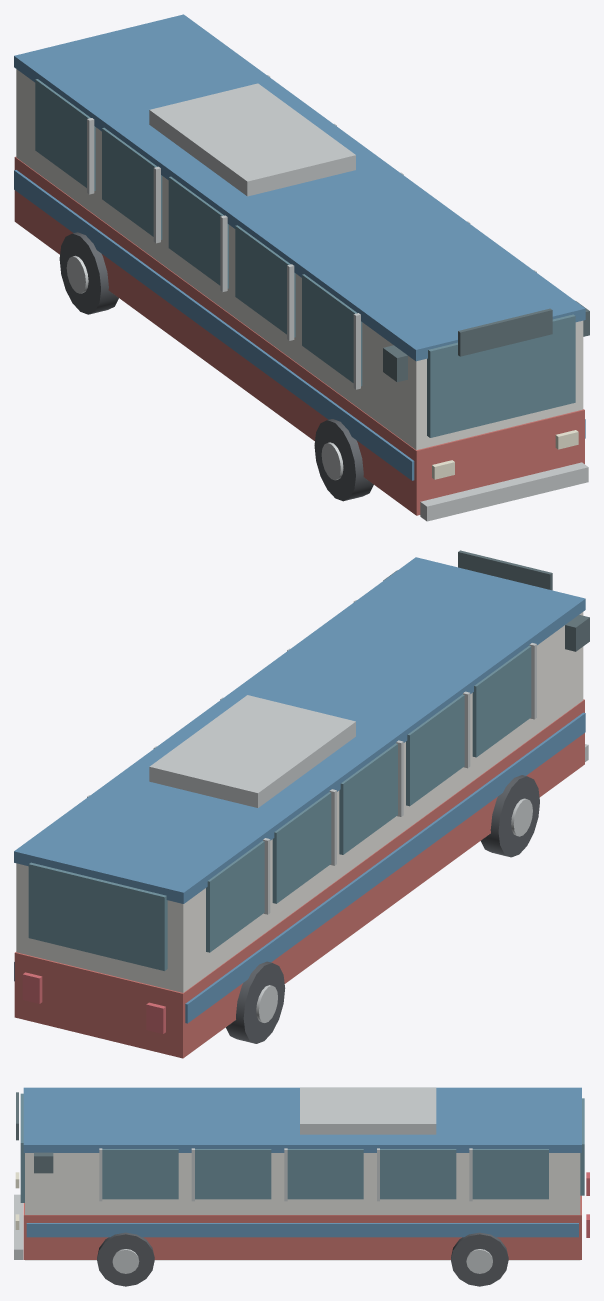
The model's file is dhaka-bus.gltf.
The picture shows the model from 3 angles, top to bottom: view 1: azimuth 30°, elevation 25°; view 2: azimuth 150°, elevation 25°; view 3: azimuth 270°, elevation 25°; orthographic projection. The views are drawn at different scales.
Parts seen in each view (by area): view 1: upper-blue-stripe, lower-red-panel, body, roof-air-unit, window-wide-front, side-paint-sweep--1, side-window--1--0.3999999999999997, side-window--1-1.3000000000000003, side-window--1--3.8, side-window--1-3, side-window--1--2.0999999999999996, front-bumper (+5 smaller); view 2: upper-blue-stripe, lower-red-panel, body, roof-air-unit, rear-window, side-paint-sweep--1, side-window--1--2.0999999999999996, side-window--1-3, side-window--1--3.8, side-window--1-1.3000000000000003, side-window--1--0.3999999999999997, rear-tyre--1--3.25 (+3 smaller); view 3: upper-blue-stripe, body, lower-red-panel, side-paint-sweep-1, roof-air-unit, side-window-1-3, side-window-1--3.8, side-window-1--2.0999999999999996, side-window-1--0.3999999999999997, side-window-1-1.3000000000000003, rear-tyre-1--3.25, rear-tyre-1-3.25 (+6 smaller).
Boxes of the visible parts, <box> form: upper-blue-stripe: <box>14,14,585,361</box>; lower-red-panel: <box>14,156,584,515</box>; body: <box>16,69,583,450</box>; roof-air-unit: <box>149,83,355,196</box>; window-wide-front: <box>427,314,575,437</box>; side-paint-sweep--1: <box>14,170,414,480</box>; side-window--1--0.3999999999999997: <box>168,176,228,288</box>; side-window--1-1.3000000000000003: <box>235,225,295,337</box>; side-window--1--3.8: <box>35,79,95,190</box>; side-window--1-3: <box>302,274,362,386</box>; side-window--1--2.0999999999999996: <box>102,127,162,239</box>; front-bumper: <box>420,462,588,521</box>; upper-blue-stripe: <box>14,557,585,903</box>; lower-red-panel: <box>14,699,584,1058</box>; body: <box>16,612,583,992</box>; roof-air-unit: <box>149,695,355,807</box>; rear-window: <box>28,862,167,970</box>; side-paint-sweep--1: <box>185,712,585,1023</box>; side-window--1--2.0999999999999996: <box>272,792,331,903</box>; side-window--1-3: <box>472,645,531,757</box>; side-window--1--3.8: <box>206,841,264,952</box>; side-window--1-1.3000000000000003: <box>406,694,464,806</box>; side-window--1--0.3999999999999997: <box>339,743,397,854</box>; rear-tyre--1--3.25: <box>226,961,285,1043</box>; upper-blue-stripe: <box>23,1087,581,1152</box>; body: <box>25,1153,580,1260</box>; lower-red-panel: <box>23,1195,581,1259</box>; side-paint-sweep-1: <box>26,1223,578,1237</box>; roof-air-unit: <box>300,1087,436,1134</box>; side-window-1-3: <box>102,1149,178,1199</box>; side-window-1--3.8: <box>472,1149,548,1199</box>; side-window-1--2.0999999999999996: <box>380,1149,456,1199</box>; side-window-1--0.3999999999999997: <box>287,1149,363,1199</box>; side-window-1-1.3000000000000003: <box>195,1149,271,1199</box>; rear-tyre-1--3.25: <box>451,1232,508,1286</box>; rear-tyre-1-3.25: <box>97,1232,154,1286</box>.
Bounding box in the file's own units: 2.84 × 3.04 × 10.58.
